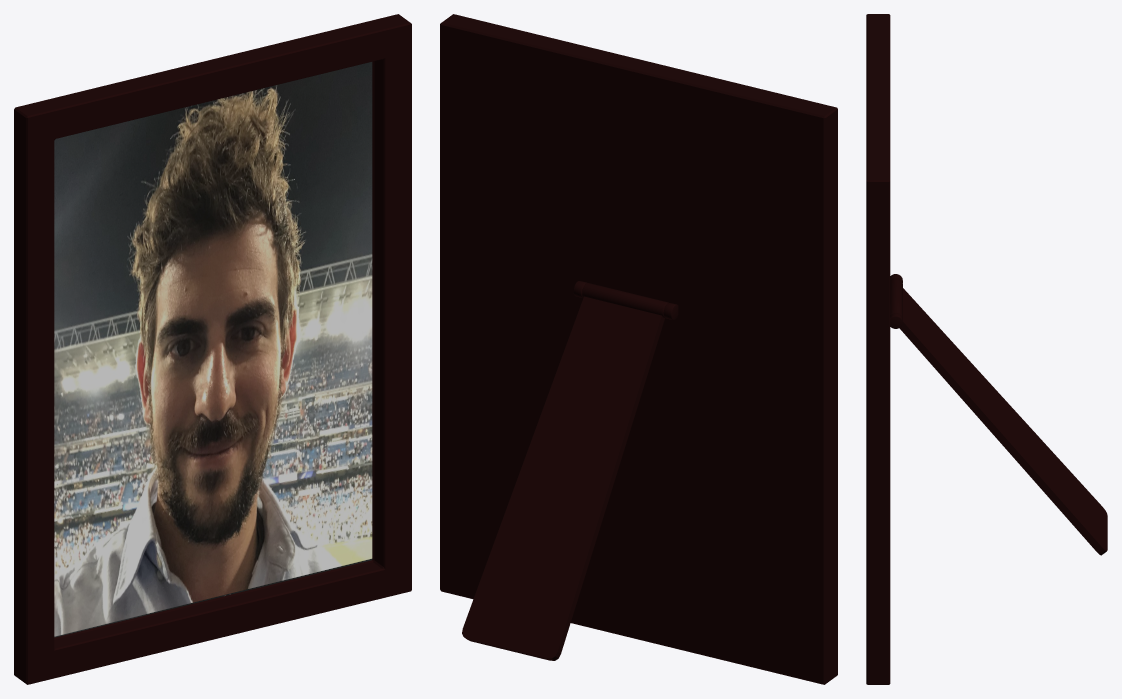
The model's file is aws_DeskPortraitB_01_visual.DAE.
3 renders of one model, left to right at view 1: azimuth 30°, elevation 25°; view 2: azimuth 150°, elevation 25°; view 3: azimuth 270°, elevation 25°, orthographic. The views are drawn at different scales.
Visible parts, largest first — view 1: aws_DeskPortraitB_01_visual; view 2: aws_DeskPortraitB_01_visual; view 3: aws_DeskPortraitB_01_visual.
Part boxes in pixels (left/top/right/bottom): aws_DeskPortraitB_01_visual: left=14, top=14, right=411, bottom=684; aws_DeskPortraitB_01_visual: left=440, top=14, right=837, bottom=684; aws_DeskPortraitB_01_visual: left=866, top=14, right=1107, bottom=684.
Bounding box in the file's own units: 16.83 × 10.26 × 23.71.
Materials: 2 (2 with a texture image).
